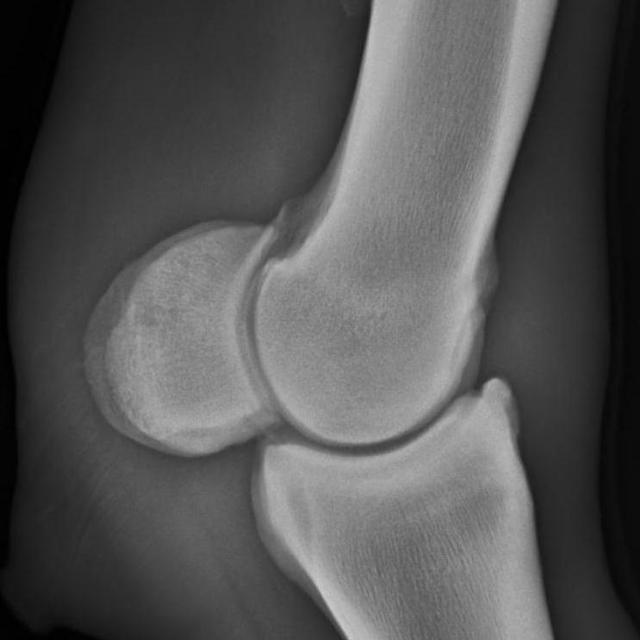bone remodeling: (484, 361, 532, 425)
